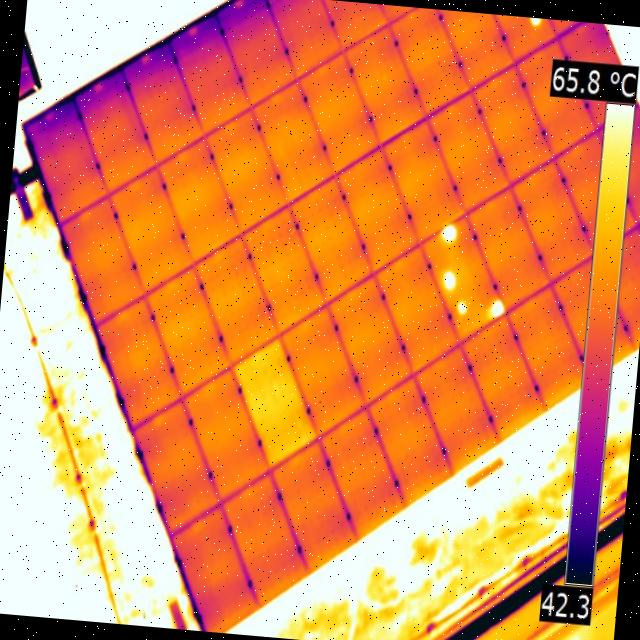Hotspot: (439, 268, 458, 292), (439, 222, 458, 244), (487, 298, 506, 317), (454, 298, 468, 317), (524, 17, 544, 28)
